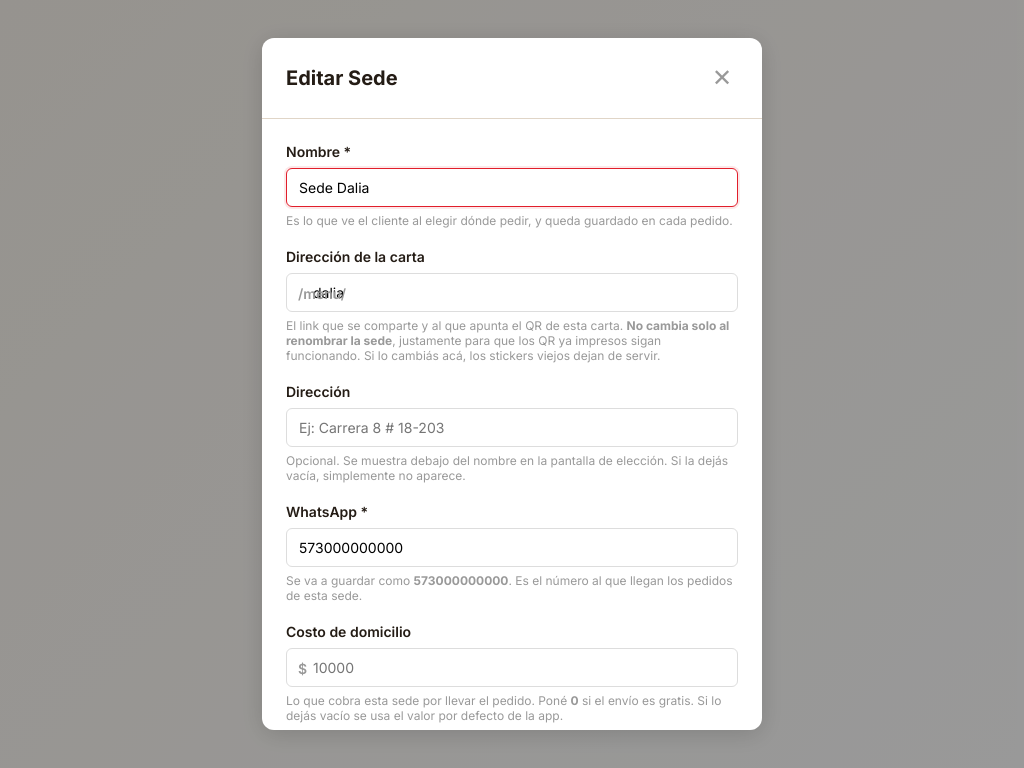
Test: SedeModal — dirección de la carta (/menu/<slug>) › marca el error cuando se escribe algo que no sirve en una URL
Step 1. Type " con espacio" into the field labelled "Dirección de la carta" → (512, 293), box [286,273,738,312]
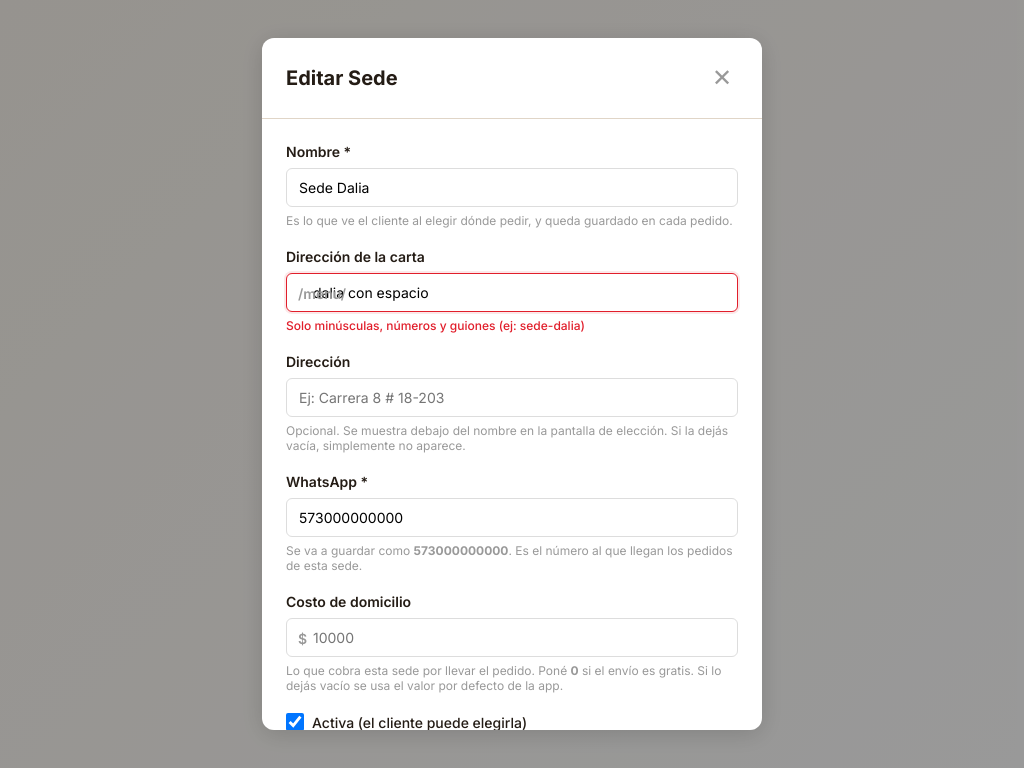
Expected: the text "Solo minúsculas, números y guiones (ej: sede-dalia)" is shown, [286,318,585,333]
